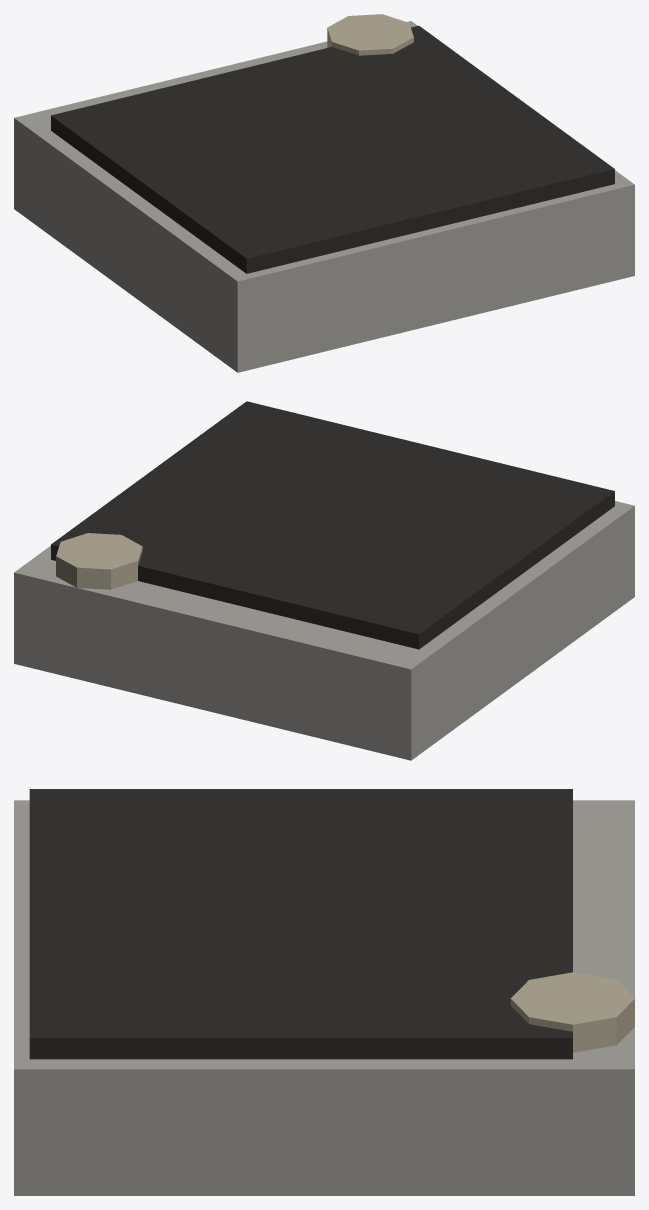
The model's file is portable-md.glb.
3 views of the same model, one above another, from view 1: azimuth 30°, elevation 25°; view 2: azimuth 150°, elevation 25°; view 3: azimuth 270°, elevation 25° (orthographic). The views are drawn at different scales.
Parts seen in each view (by area): view 1: plastic-dark, brushed, plastic-light; view 2: plastic-dark, brushed, plastic-light; view 3: plastic-dark, brushed, plastic-light.
Boxes of the visible parts, bbox=[...] form: plastic-dark: bbox=[51, 25, 614, 273]; brushed: bbox=[14, 21, 634, 372]; plastic-light: bbox=[327, 14, 413, 55]; plastic-dark: bbox=[51, 401, 614, 649]; brushed: bbox=[14, 501, 634, 760]; plastic-light: bbox=[56, 533, 142, 589]; plastic-dark: bbox=[29, 789, 572, 1059]; brushed: bbox=[14, 800, 634, 1195]; plastic-light: bbox=[510, 972, 634, 1052].
Size of the model in its own units: 0.082 by 0.022 by 0.08.
